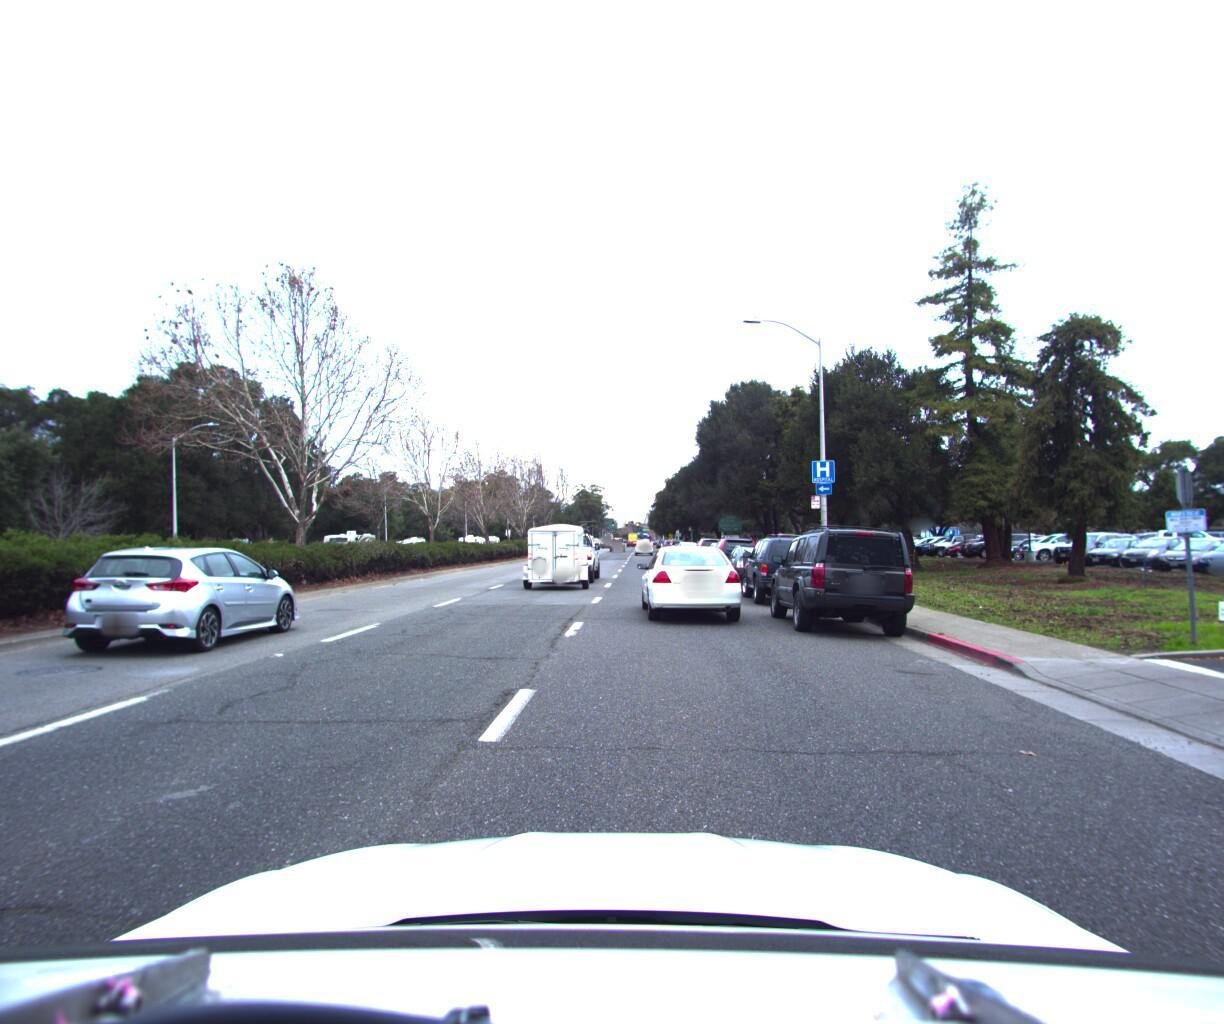car: (67, 542, 314, 664), (761, 516, 929, 641), (623, 538, 749, 627), (735, 527, 833, 603), (515, 517, 601, 590), (718, 537, 786, 590), (703, 529, 763, 582), (687, 529, 728, 566), (673, 535, 699, 555), (633, 534, 654, 550), (666, 535, 685, 550)
other_vehicle: (319, 525, 379, 566)
